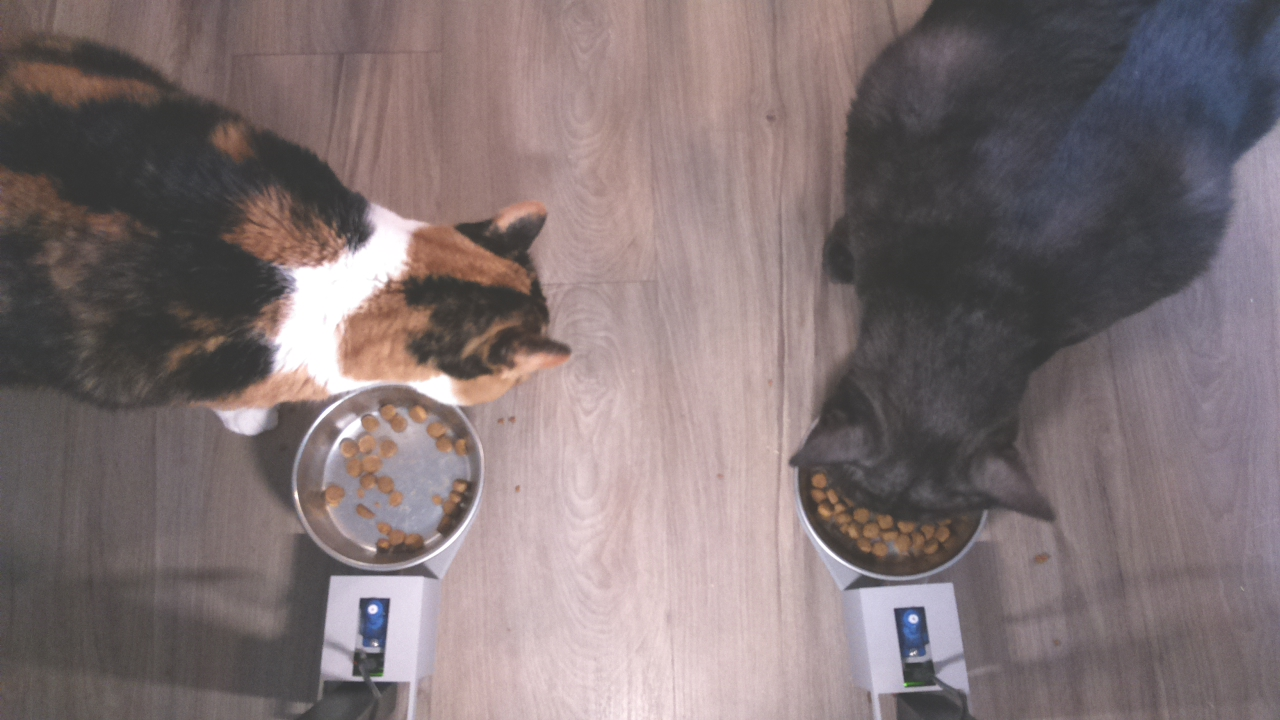bella: (329, 168, 577, 420)
open_bowl: (287, 382, 499, 580)
saki_eating: (786, 318, 1061, 586)
